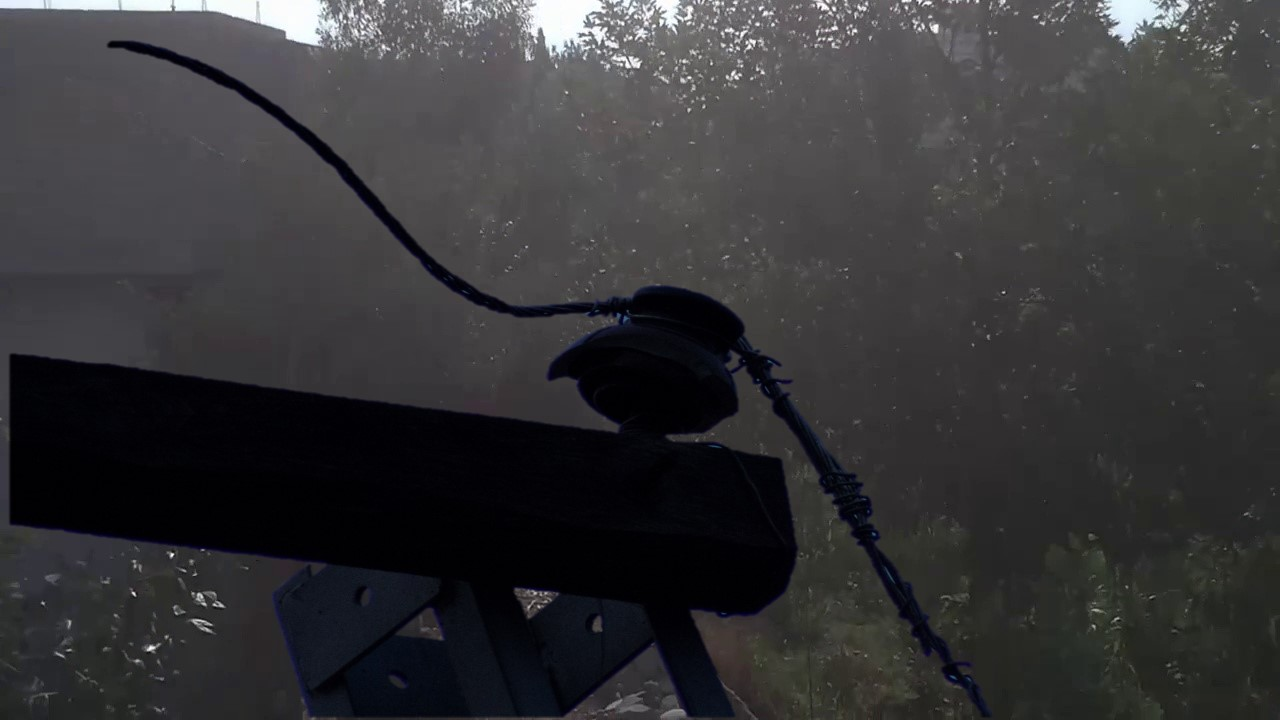defect_pin: (545, 282, 753, 446)
